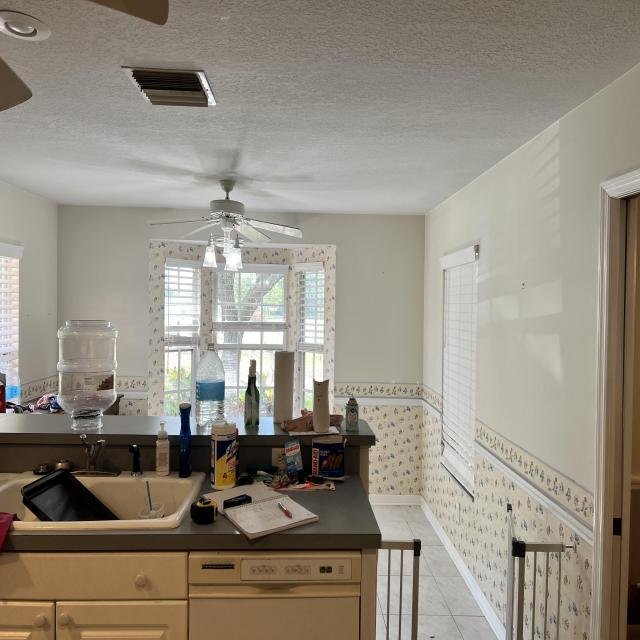Appliance_Dishwasher: (188, 552, 362, 640)
Appliance_Sink: (0, 471, 206, 530), (79, 434, 106, 472)
Cabinet_Flat: (0, 553, 187, 599)
Cabinet_Raised_Panel: (0, 600, 190, 640)
Countertop_Laminate: (7, 475, 381, 550), (103, 416, 183, 435), (0, 414, 72, 433), (259, 417, 281, 435), (229, 414, 245, 435), (358, 420, 373, 435)
